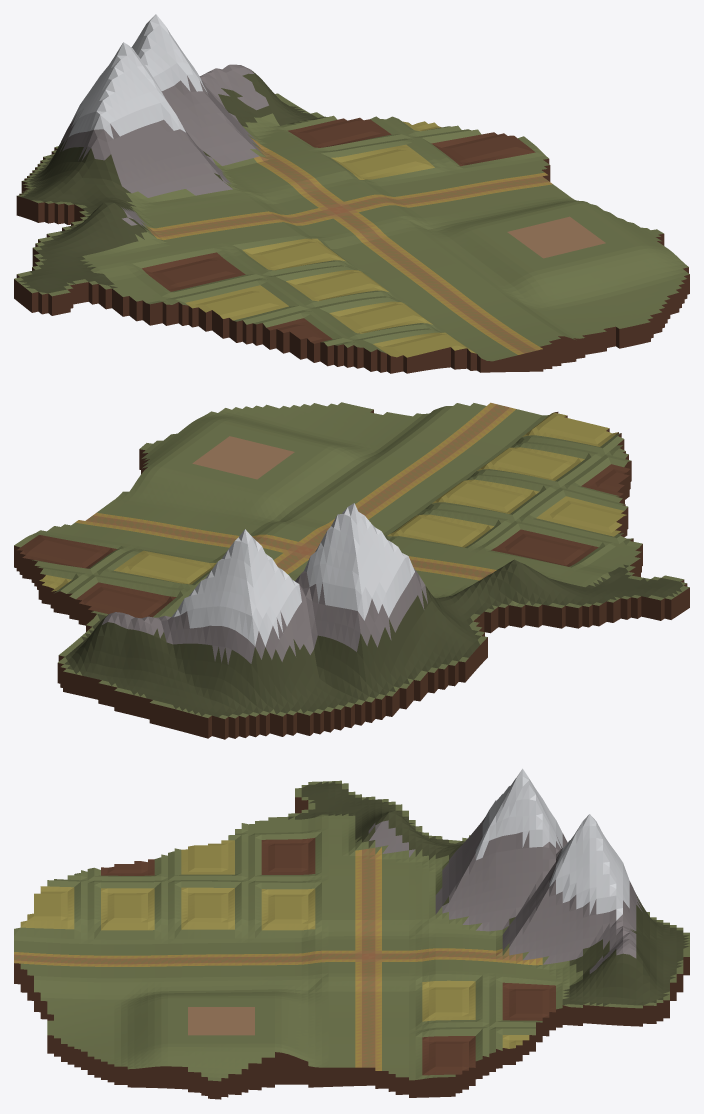
File: chile-fiestas-patrias-terrain-c8ce87.glb
3 views of the same model, one above another, from view 1: azimuth 30°, elevation 25°; view 2: azimuth 150°, elevation 25°; view 3: azimuth 270°, elevation 25° (orthographic). The views are drawn at different scales.
Visible parts, largest first — view 1: central-valley; view 2: central-valley; view 3: central-valley.
Part boxes in pixels (x1=…): central-valley: x1=14, y1=14, x2=689, y2=373; central-valley: x1=14, y1=402, x2=689, y2=739; central-valley: x1=14, y1=768, x2=689, y2=1099.
Bounding box in the file's own units: 92 × 27.45 × 101.
